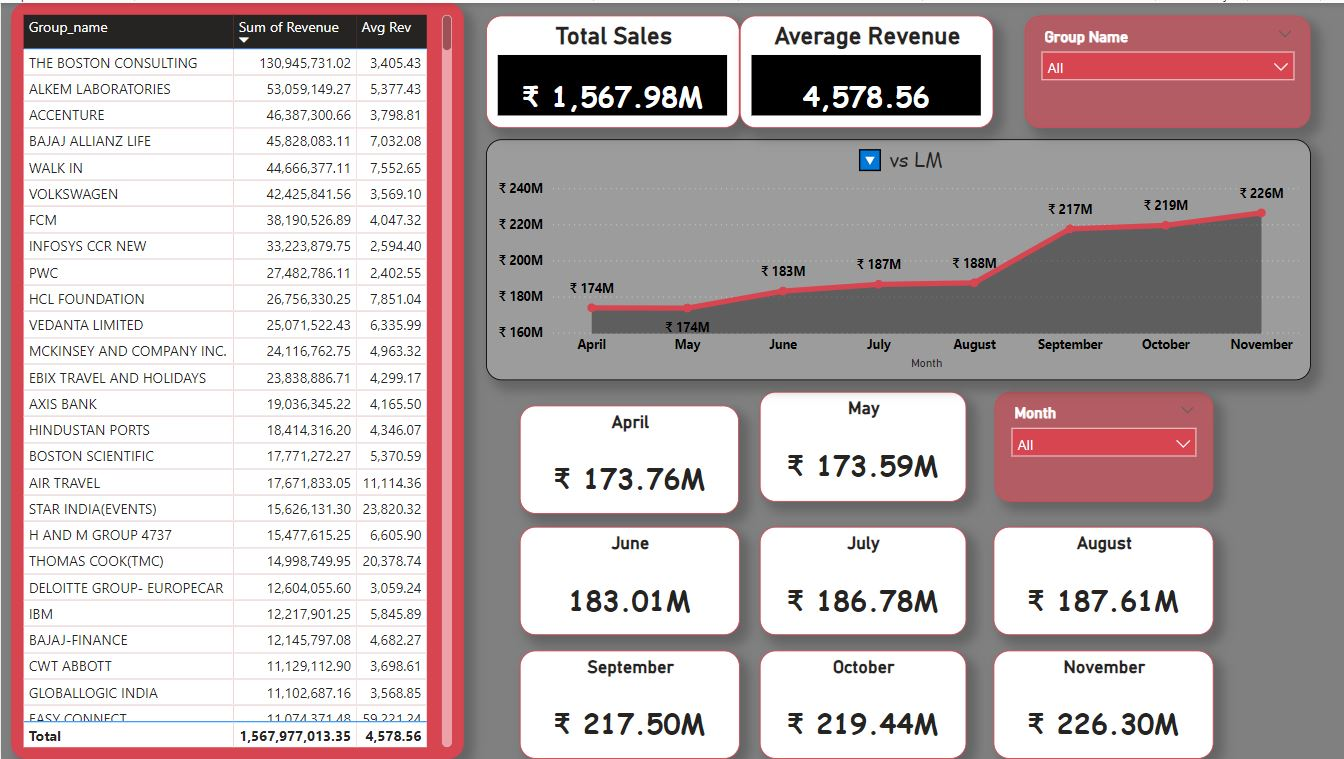

The dashboard page shown, as its layout file describes it:
{"tool":"powerbi","page":{"name":"Group Performance","canvas":[1280,720],"ordinal":0},"visuals":[{"type":"tableEx","fields":{"Values":["Booking & revenue.Group_name","Sum(Booking & revenue.Revenue)","Booking & revenue.Avg Rev"]},"box":[9.5,0,431,720.2],"z":0},{"type":"slicer","fields":{"Values":["Date Table.Month"]},"box":[945.9,370.8,207.9,104.6],"z":1000},{"type":"cardVisual","title":"April","fields":{"Data":["Booking & revenue.Total April"]},"box":[493.6,383,209.1,103.3],"z":2000},{"type":"cardVisual","title":"June","fields":{"Data":["Booking & revenue.June"]},"box":[494.1,498.8,209.5,103.6],"z":3000},{"type":"cardVisual","title":"May","fields":{"Data":["Booking & revenue.Total May"]},"box":[722.2,370.8,197,104.6],"z":4000},{"type":"cardVisual","title":"July","fields":{"Data":["Booking & revenue.Total July"]},"box":[722.6,498.8,196.4,103.6],"z":5000},{"type":"cardVisual","title":"August","fields":{"Data":["Booking & revenue.Total Aug"]},"box":[945.2,498.8,209.5,103.6],"z":6000},{"type":"cardVisual","title":"September","fields":{"Data":["Booking & revenue.Total Sep"]},"box":[494.1,616.7,209.5,103.6],"z":7000},{"type":"cardVisual","title":"October","fields":{"Data":["Booking & revenue.Total Oct"]},"box":[722.6,616.7,196.4,103.6],"z":8000},{"type":"cardVisual","title":"November","fields":{"Data":["Booking & revenue.Total Nov"]},"box":[945.2,616.7,209.5,103.6],"z":9000},{"type":"slicer","fields":{"Values":["Booking & revenue.Group_name"]},"box":[975.1,12.2,272.3,107],"z":10000},{"type":"cardVisual","title":"Total Sales","fields":{"Data":["Booking & revenue.Total sales"]},"box":[461.9,11.9,241.7,107.1],"z":11000},{"type":"lineChart","fields":{"Category":["Date Table.Date.Variation.Date Hierarchy.Month"],"Y":["Booking & revenue.Total Revenue"]},"box":[461.9,129.8,785.7,229.8],"z":12000},{"type":"cardVisual","title":"Average Revenue","fields":{"Data":["Booking & revenue.Avg Rev"]},"box":[703.6,11.9,241.7,107.1],"z":13000}]}

Visuals, with their boxes in screenshot pixels (x1, y1, x2, y2), scaled from the page's 1280x720 canvas onto the 1344x759 screenshot:
tableEx - Booking & revenue.Group_name x Sum(Booking & revenue.Revenue): [10,0,463,758]
slicer - Date Table.Month: [993,391,1211,501]
"April" cardVisual: [518,404,738,513]
"June" cardVisual: [519,526,739,635]
"May" cardVisual: [758,391,965,501]
"July" cardVisual: [759,526,965,635]
"August" cardVisual: [992,526,1212,635]
"September" cardVisual: [519,650,739,758]
"October" cardVisual: [759,650,965,758]
"November" cardVisual: [992,650,1212,758]
slicer - Booking & revenue.Group_name: [1024,13,1310,126]
"Total Sales" cardVisual: [485,13,739,125]
lineChart - Date Table.Date.Variation.Date Hierarchy.Month x Booking & revenue.Total Revenue: [485,137,1310,379]
"Average Revenue" cardVisual: [739,13,993,125]
